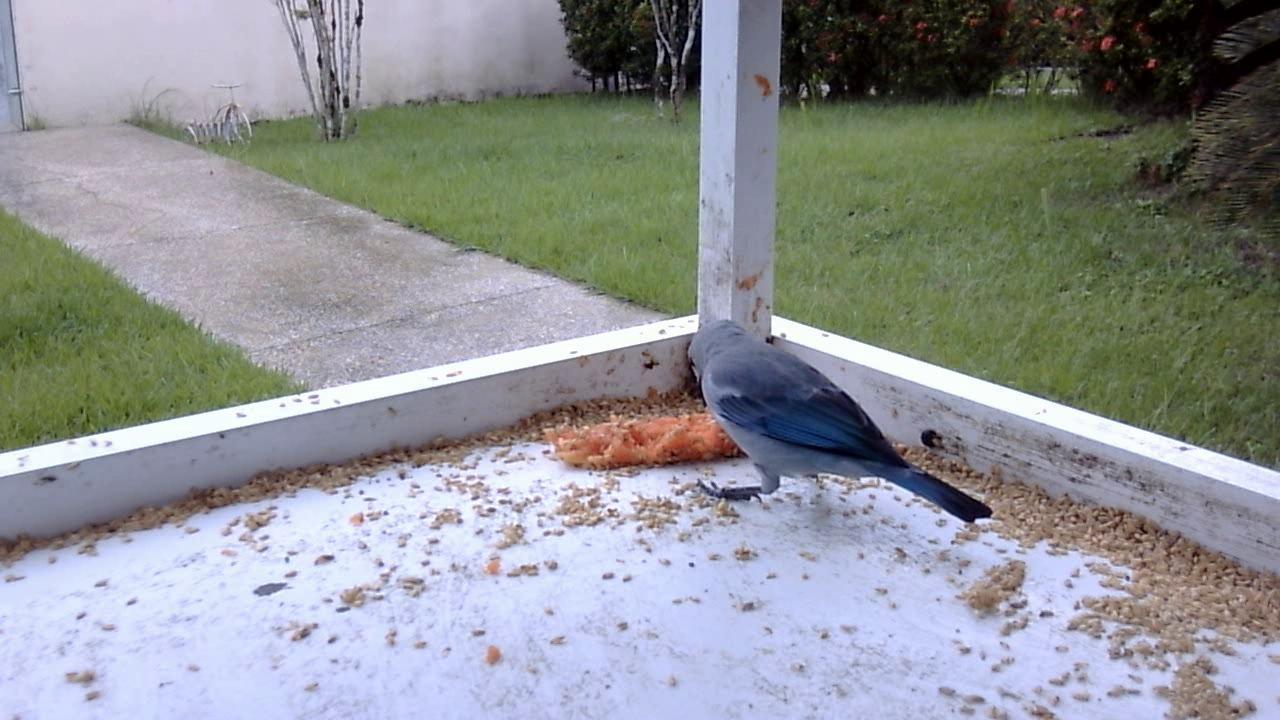sanhaco_da_amazonia: (676, 313, 997, 538)
